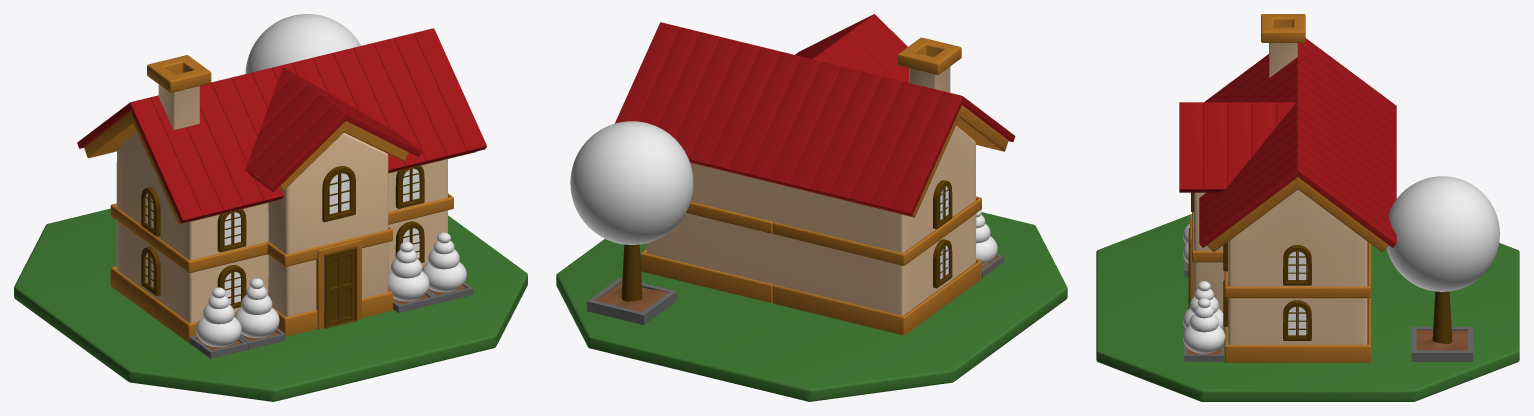
The model's file is house.fbx.
The picture shows the model from 3 angles, left to right: view 1: azimuth 30°, elevation 25°; view 2: azimuth 150°, elevation 25°; view 3: azimuth 270°, elevation 25°; orthographic projection. The views are drawn at different scales.
Parts seen in each view (by area): view 1: Cube.204, Cube.005, Cube, Cube.001, Cube.007, Vert.001, Sphere.006, Vert, Cube.003, Plane.001, Plane.002, Cube.004 (+17 smaller); view 2: Cube.204, Cube.005, Cube, Sphere.006, Vert, Cube.007, Vert.001, Cube.003, Cube.004, Cube.085, Cylinder.016, Plane.010 (+2 smaller); view 3: Cube.204, Cube.005, Cube, Sphere.006, Cube.007, Vert, Vert.001, Cube.004, Cube.003, Cube.001, Cube.085, Plane.010 (+8 smaller).
Part boxes in pixels (x1,y1,x2,y2): Cube.204: (14, 208, 527, 401); Cube.005: (77, 28, 486, 223); Cube: (116, 132, 447, 322); Cube.001: (268, 133, 388, 316); Cube.007: (245, 67, 421, 192); Vert.001: (110, 193, 453, 273); Sphere.006: (245, 14, 360, 73); Vert: (110, 266, 423, 342); Cube.003: (147, 55, 211, 129); Plane.001: (324, 247, 357, 328); Plane.002: (217, 165, 424, 308); Cube.004: (84, 111, 476, 224); Cube.204: (556, 212, 1067, 401); Cube.005: (615, 22, 1015, 216); Cube: (646, 126, 976, 315); Sphere.006: (570, 121, 693, 244); Vert: (640, 249, 981, 335); Cube.007: (795, 14, 908, 82); Vert.001: (686, 196, 981, 265); Cube.003: (897, 37, 961, 92); Cube.004: (690, 105, 1008, 217); Cube.085: (587, 277, 676, 325); Cylinder.016: (621, 244, 642, 301); Plane.010: (933, 180, 952, 288); Cube.204: (1096, 214, 1519, 401); Cube.005: (1199, 38, 1396, 247); Cube: (1228, 190, 1367, 344); Sphere.006: (1386, 176, 1499, 291); Cube.007: (1179, 102, 1295, 192); Vert: (1192, 295, 1371, 362); Vert.001: (1192, 212, 1371, 298); Cube.004: (1207, 177, 1388, 251); Cube.003: (1261, 14, 1305, 77); Cube.001: (1194, 192, 1228, 309); Cube.085: (1411, 327, 1472, 361); Plane.010: (1283, 245, 1311, 340).
Size of the model in its own units: 737 by 457 by 727.
